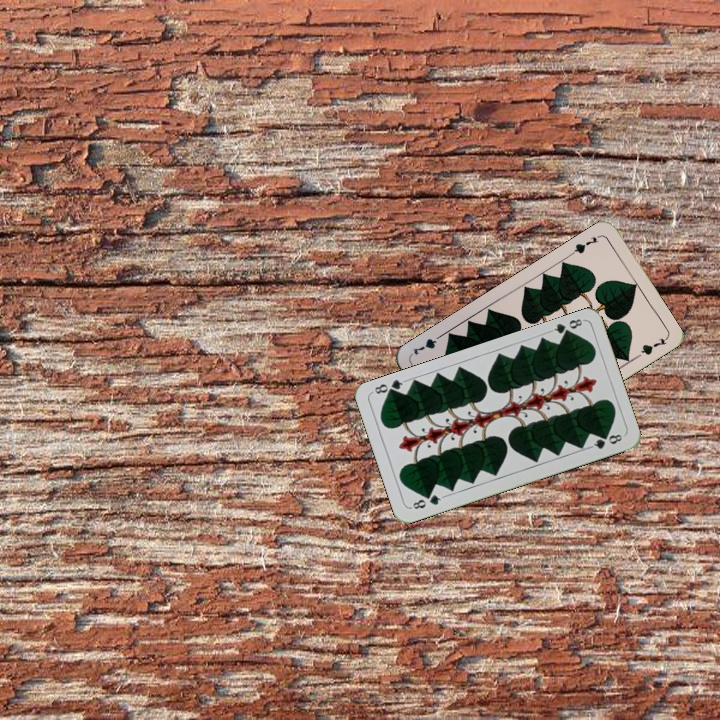G7: (567, 231, 603, 258)
G8: (546, 314, 586, 340), (407, 491, 446, 512)
